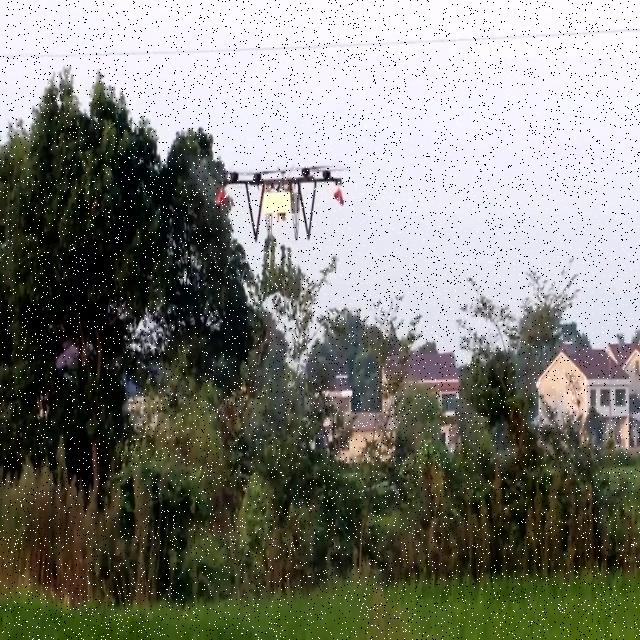UAV: (214, 165, 344, 243)
